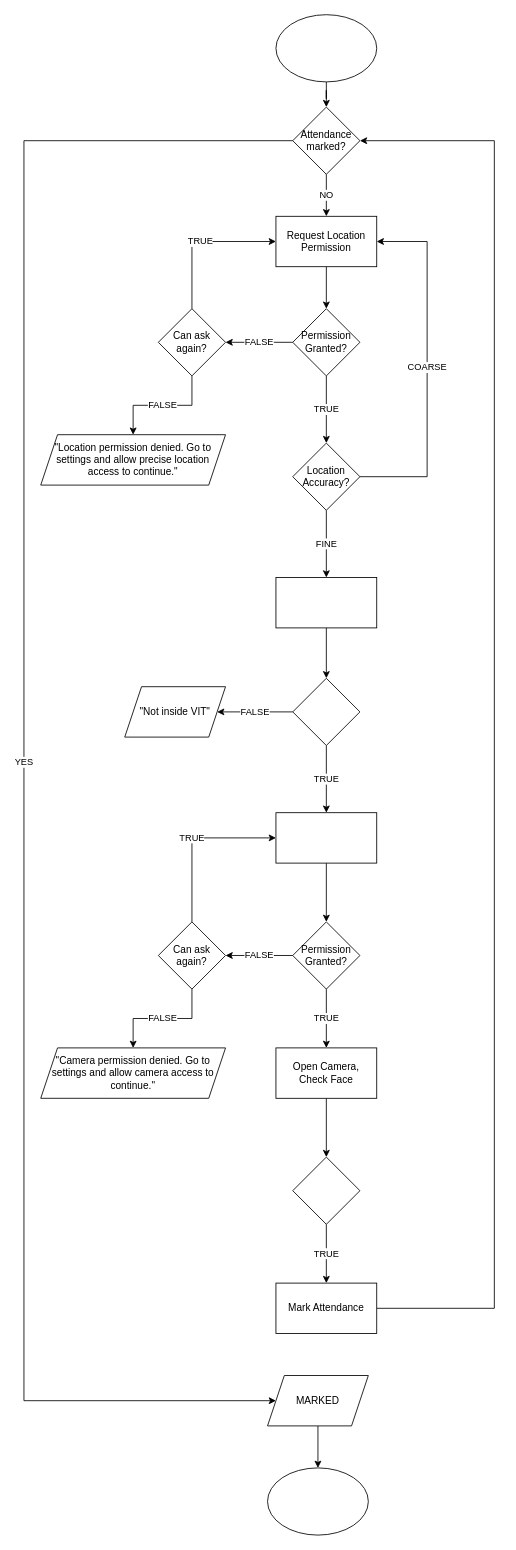
This 516x1550 diagram has some shape labels left out. The shapes that lost their labels are listed below. From the top down, each one's centre as x and y in pixels, then its label:
At point (326, 48): "Start".
At point (326, 602): "Get Location".
At point (326, 711): "Inside Geofence?".
At point (326, 837): "Request Camera Permission".
At point (326, 1190): "Face match?".
At point (317, 1501): "STOP".
